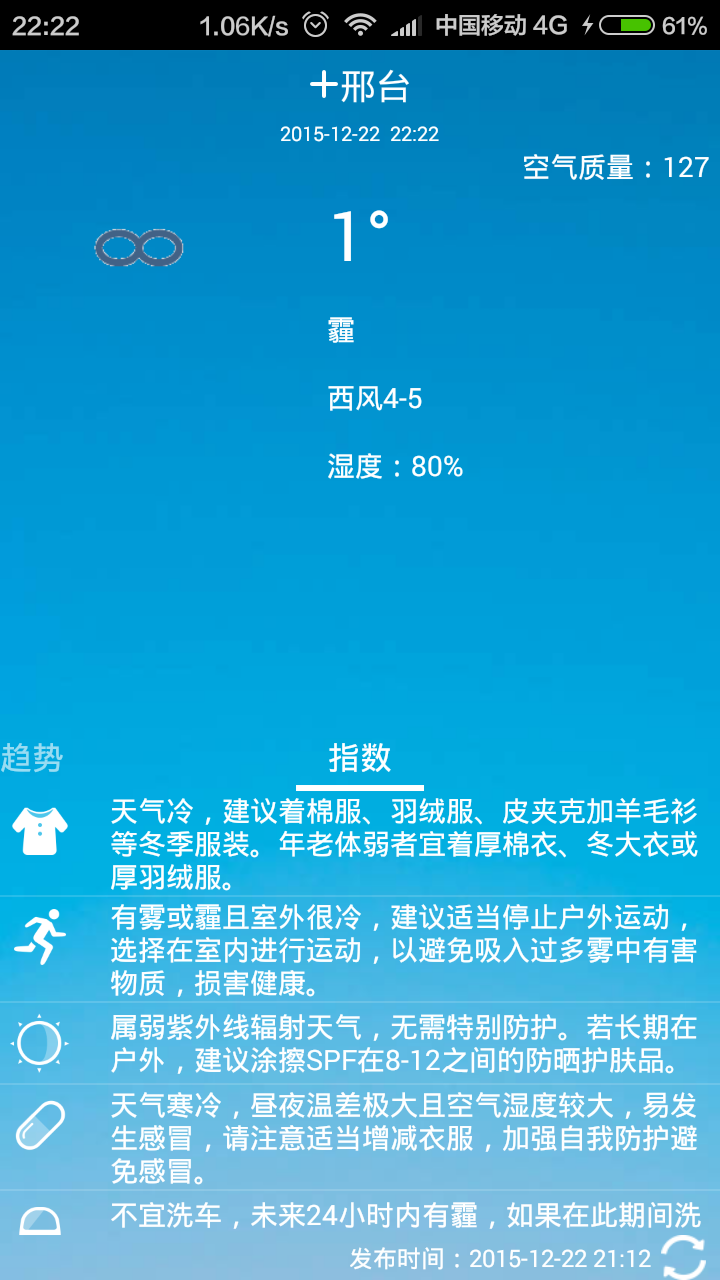textview: (94, 748, 714, 1219)
